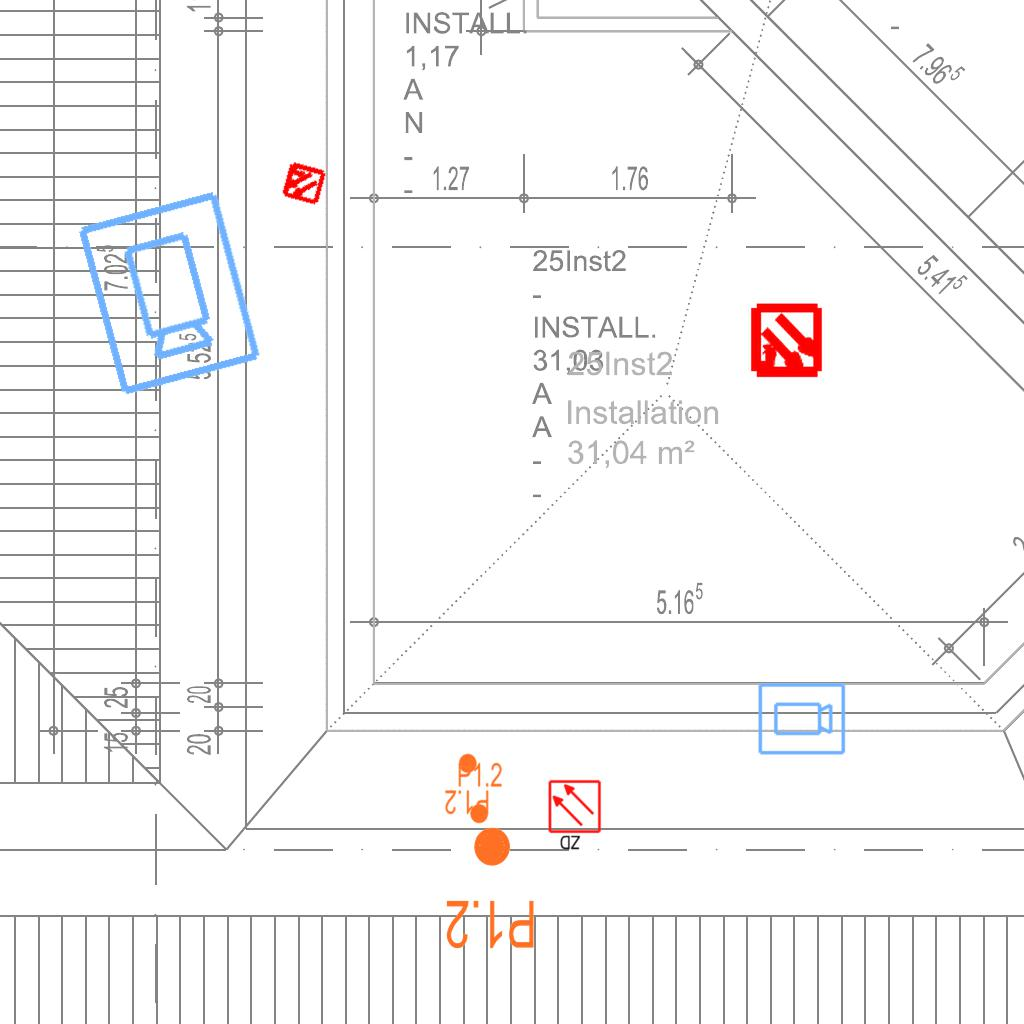Downlight_LED_Einbauleuchten_Flur: (444, 824, 537, 952), (444, 752, 490, 816), (457, 761, 503, 825)
KFO_Kamera_mit_Festobjektiv: (70, 185, 266, 401), (756, 681, 847, 758)
OT_Multisensormelder_(Kombination_RMO_WMD): (730, 286, 843, 399), (268, 148, 338, 218)
ZD_Melder_in_Zwischendecke_mit_Revisionsoeffnung_mind_40_x_40_cm: (547, 779, 604, 853)
